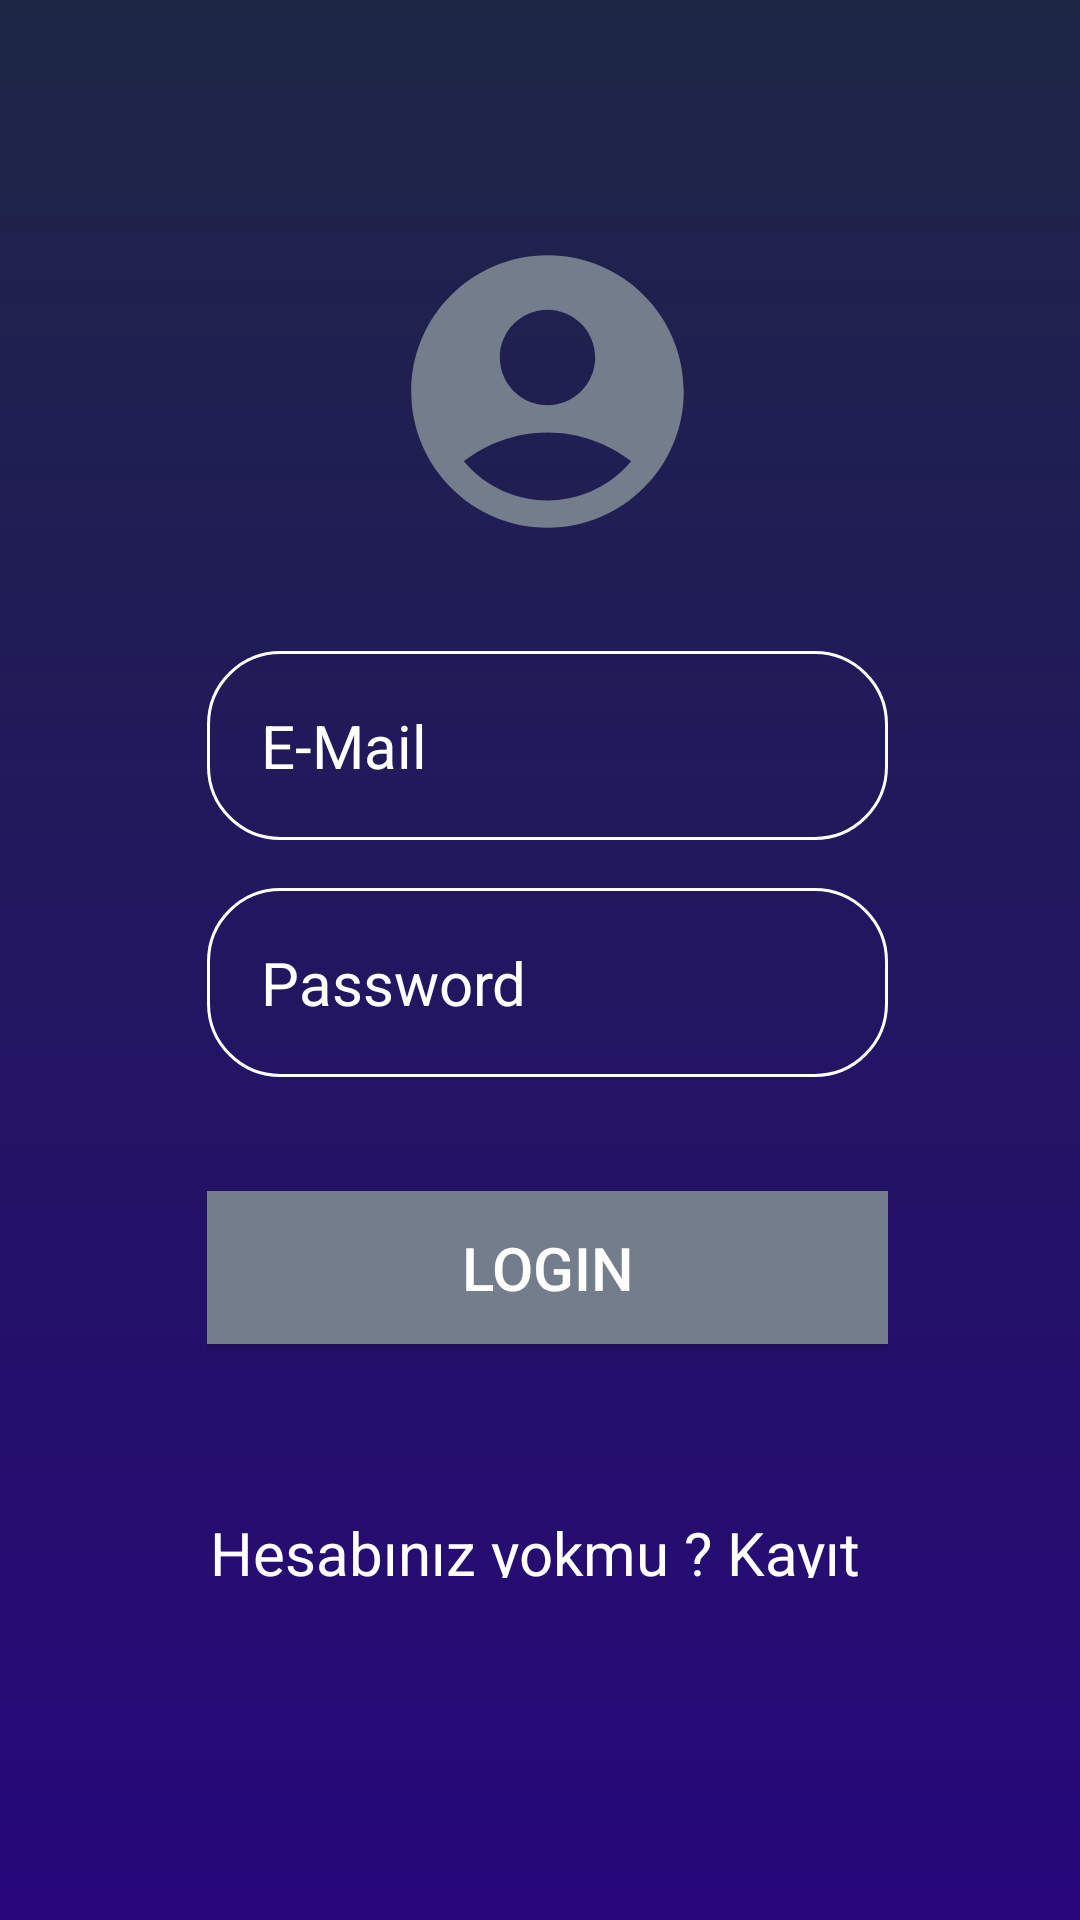

Icons on this 1080px×1920px Android screen, each with its box as (x1, y1, x2, y2):
account: (411, 255, 684, 528)
